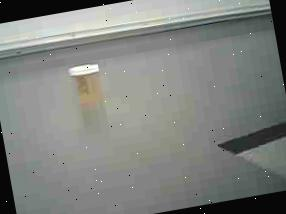Bottle B: (61, 56, 117, 118)
